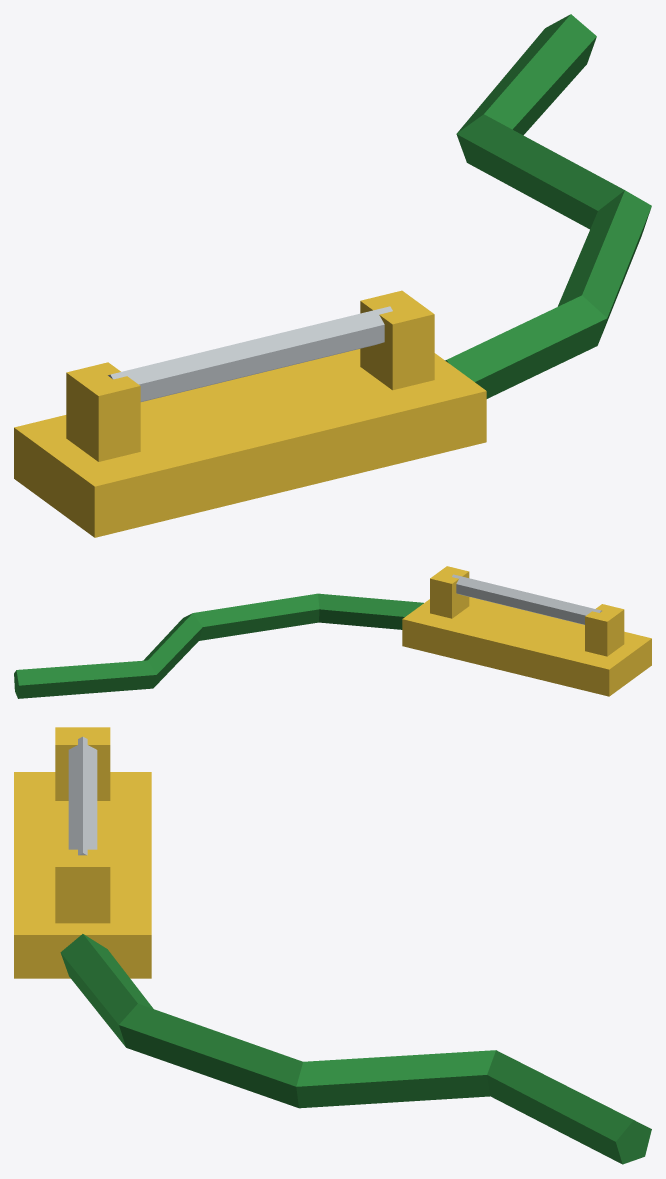
File: sprinkler.glb
The picture shows the model from 3 angles, top to bottom: view 1: azimuth 30°, elevation 25°; view 2: azimuth 150°, elevation 25°; view 3: azimuth 270°, elevation 25°; orthographic projection. The views are drawn at different scales.
Parts seen in each view (by area): view 1: Sprinkler_Base, Sprinkler_Hose, Sprinkler_Bar; view 2: Sprinkler_Base, Sprinkler_Hose, Sprinkler_Bar; view 3: Sprinkler_Hose, Sprinkler_Base, Sprinkler_Bar.
Boxes of the visible parts, x1=… form: Sprinkler_Base: x1=14, y1=290, x2=486, y2=537; Sprinkler_Hose: x1=445, y1=14, x2=651, y2=398; Sprinkler_Bar: x1=108, y1=306, x2=392, y2=401; Sprinkler_Base: x1=402, y1=566, x2=651, y2=696; Sprinkler_Hose: x1=14, y1=593, x2=423, y2=698; Sprinkler_Bar: x1=452, y1=574, x2=601, y2=624; Sprinkler_Hose: x1=60, y1=934, x2=651, y2=1164; Sprinkler_Base: x1=14, y1=727, x2=151, y2=978; Sprinkler_Bar: x1=68, y1=736, x2=97, y2=855.
Size of the model in its own units: 6.11 by 0.82 by 4.63.
